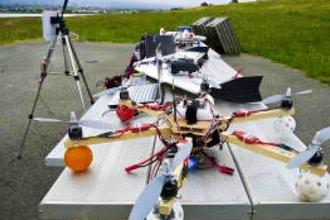drone: (37, 86, 330, 216)
